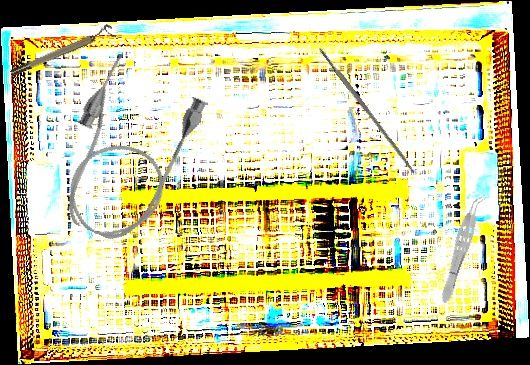Cannula: (38, 49, 214, 254)
Fixation Ring: (7, 22, 116, 79)
Scalpel Handle: (317, 45, 417, 175)
Tissue Forceps: (436, 190, 489, 306)
